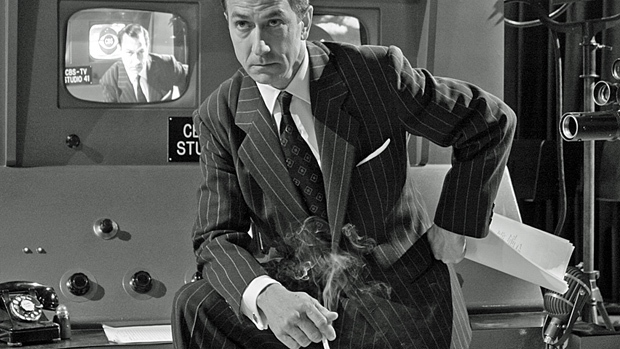cigarette: (580, 135, 598, 279), (316, 329, 329, 349)
